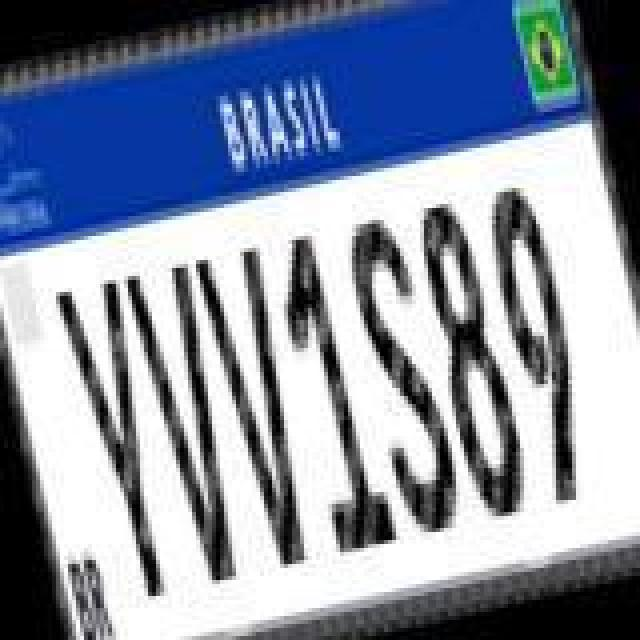1: (264, 224, 400, 560)
8: (404, 190, 540, 522)
9: (476, 176, 612, 512)
S: (334, 206, 474, 546)
V: (120, 256, 264, 592), (188, 240, 332, 576)
Y: (50, 272, 190, 608)
